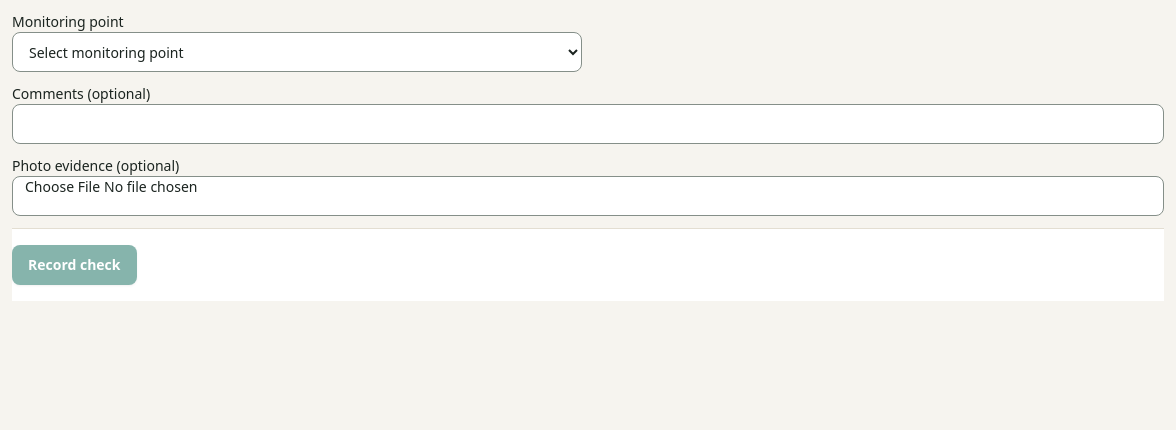
MonitoringRecordForm check choice › records the check that is due now and gives no drop-down to pick the other time by mistake
Select "Chiller #25 - Afternoon temperature at 16:00 (+1 more)" in the dropdown labelled "Monitoring point". click: (297, 52)
box: [12,32,582,72]
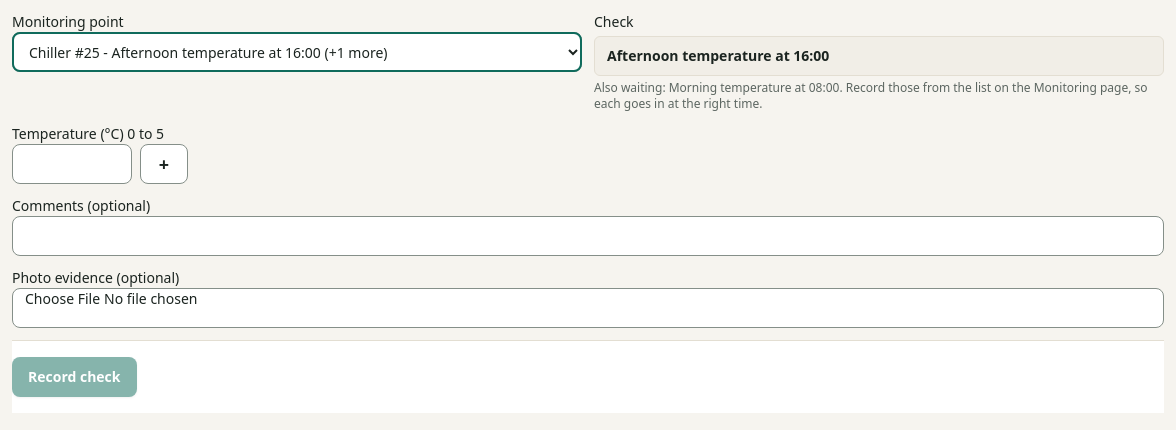
Expected: the text "Afternoon temperature at 16:00" is shown, [594,36,1164,76]
Expected: the text "Also waiting: Morning temperature at 08:00" is shown, [594,80,1164,112]
